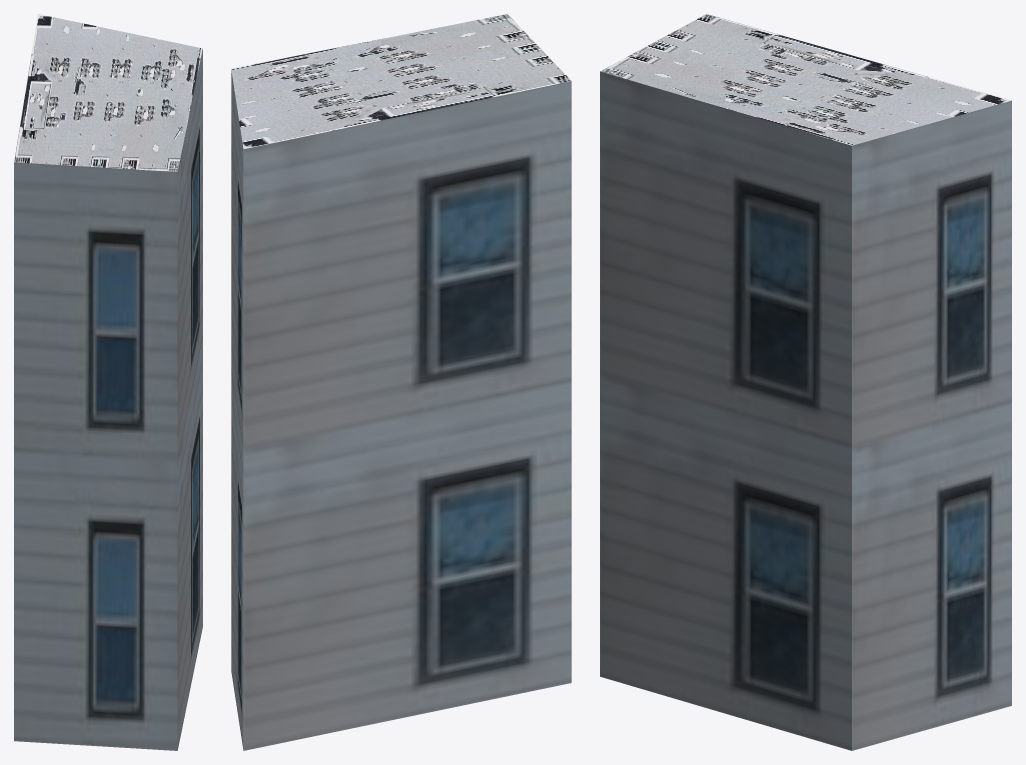
The model's file is ResTex__1890.fbx.
3 views of the same model, side by side, from view 1: azimuth 30°, elevation 25°; view 2: azimuth 150°, elevation 25°; view 3: azimuth 270°, elevation 25° (orthographic). The views are drawn at different scales.
Parts seen in each view (by area): view 1: CityEngineMaterial_18_m, CityEngineMaterial_m; view 2: CityEngineMaterial_18_m, CityEngineMaterial_m; view 3: CityEngineMaterial_18_m, CityEngineMaterial_m.
Part boxes in pixels (x1,y1,x2,y2): CityEngineMaterial_18_m: (14, 49, 202, 750); CityEngineMaterial_m: (14, 14, 202, 171); CityEngineMaterial_18_m: (231, 71, 571, 750); CityEngineMaterial_m: (231, 14, 571, 149); CityEngineMaterial_18_m: (600, 71, 1011, 750); CityEngineMaterial_m: (600, 14, 1011, 145).
Bounding box in the file's own units: 2.8 × 6 × 3.7.
Materials: 2 (2 with a texture image).
